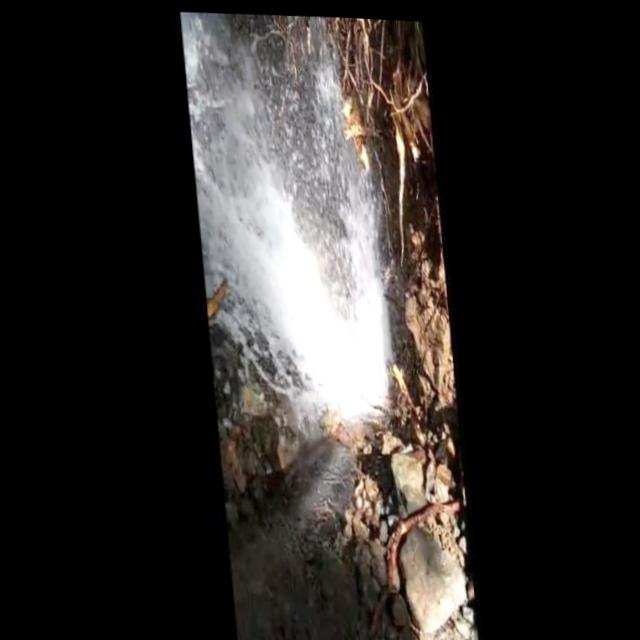leak: (182, 13, 391, 512)
